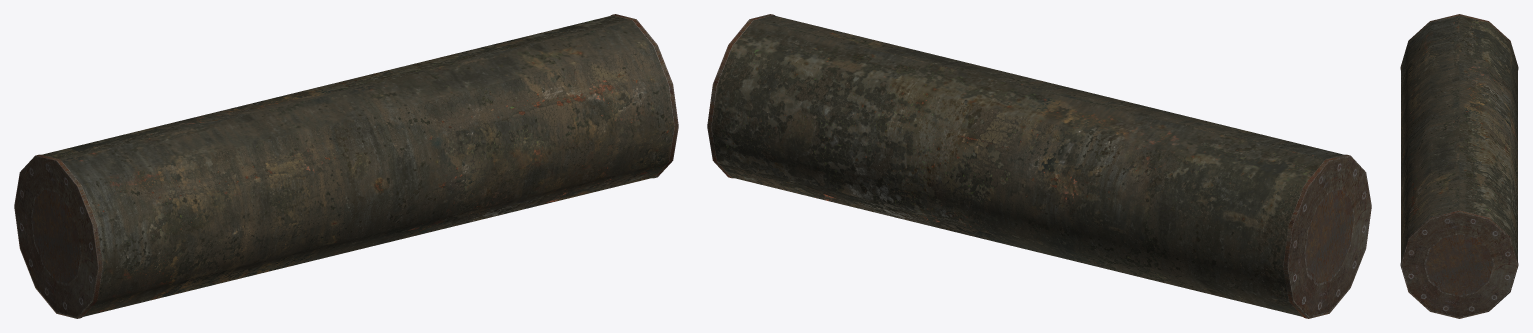
File: SM_Pipe_Big_A.fbx
3 views of the same model, side by side, from view 1: azimuth 30°, elevation 25°; view 2: azimuth 150°, elevation 25°; view 3: azimuth 270°, elevation 25° (orthographic). The views are drawn at different scales.
Parts seen in each view (by area): view 1: SM_Pipe_Big_A; view 2: SM_Pipe_Big_A; view 3: SM_Pipe_Big_A.
Boxes of the visible parts, box(x1,y1,x2,y2) form: SM_Pipe_Big_A: box(14, 14, 678, 318); SM_Pipe_Big_A: box(707, 14, 1371, 318); SM_Pipe_Big_A: box(1400, 14, 1518, 318).
Size of the model in its own units: 200 by 50.4 by 50.4.
